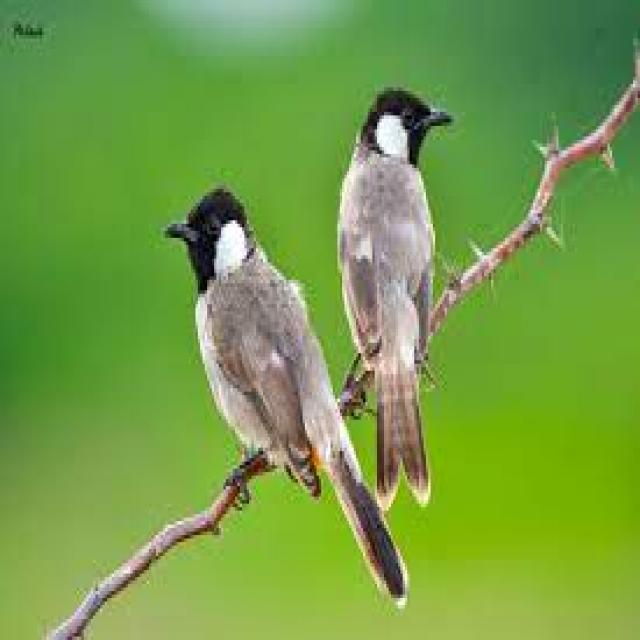bird: (161, 173, 414, 605), (335, 85, 467, 511)
